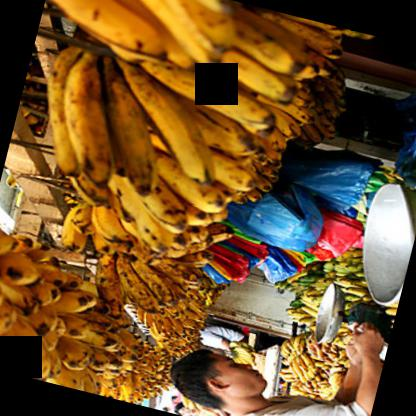handbag: (226, 182, 325, 252), (306, 203, 364, 261), (218, 239, 261, 270), (227, 238, 268, 260), (231, 233, 270, 254)
